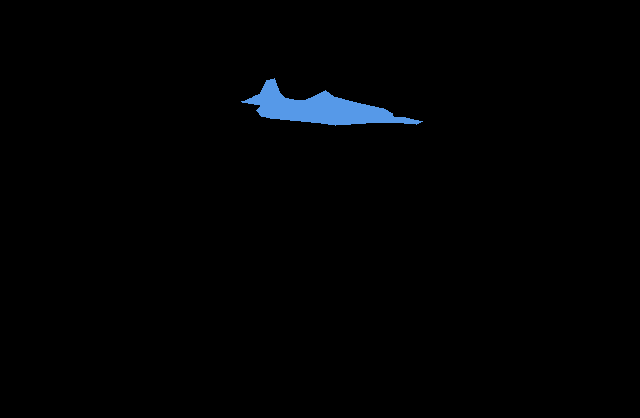Airplane: (241, 78, 423, 125)
